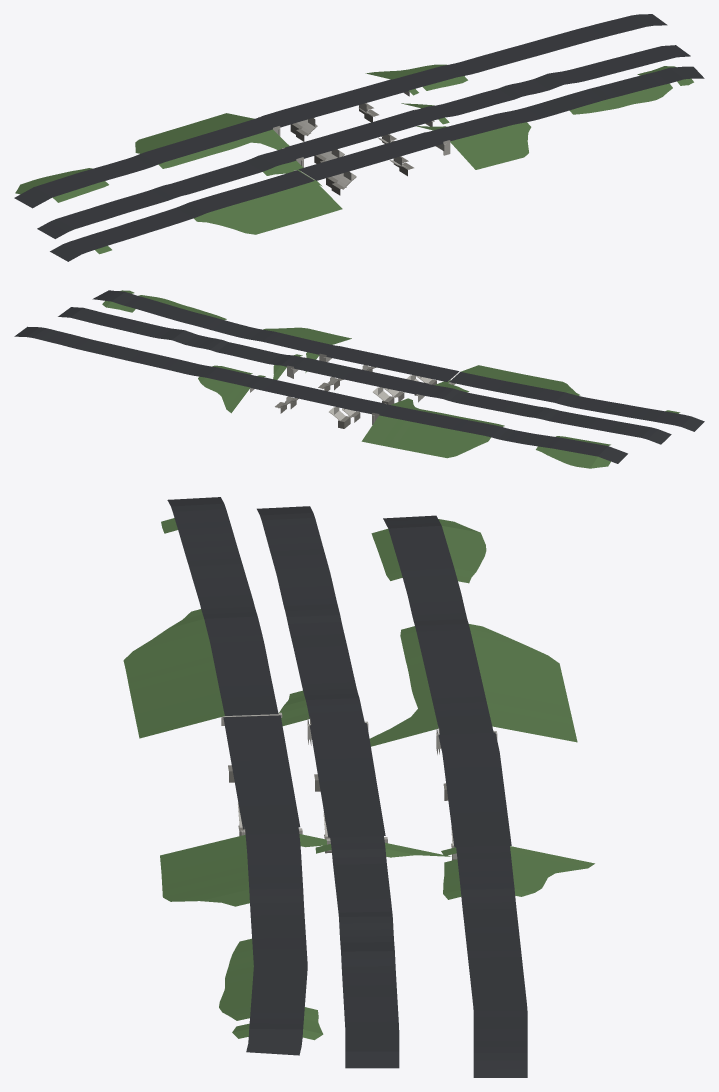
Rendered from br_h28_blackmud_arches_lod1.gltf.
3 renders of one model, top to bottom at view 1: azimuth 30°, elevation 25°; view 2: azimuth 150°, elevation 25°; view 3: azimuth 270°, elevation 25°, orthographic. The views are drawn at different scales.
Visible parts, largest first — view 1: br_h28_blackmud_arches_lod1; view 2: br_h28_blackmud_arches_lod1; view 3: br_h28_blackmud_arches_lod1.
Boxes of the visible parts, box(x1,y1,x2,y2) form: br_h28_blackmud_arches_lod1: box(14, 14, 704, 261); br_h28_blackmud_arches_lod1: box(14, 290, 704, 468); br_h28_blackmud_arches_lod1: box(123, 497, 594, 1077).
Size of the model in its own units: 391 by 15.03 by 132.
